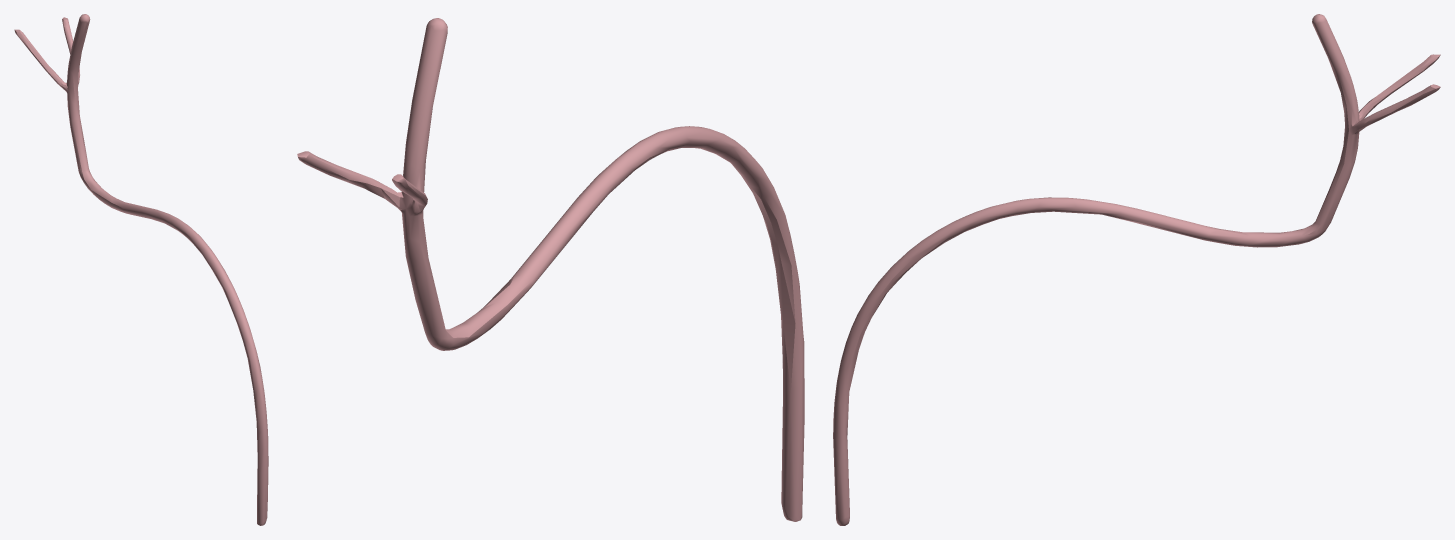
Rendered from fma19667.glb.
3 renders of one model, left to right at view 1: azimuth 30°, elevation 25°; view 2: azimuth 150°, elevation 25°; view 3: azimuth 270°, elevation 25°, orthographic. The views are drawn at different scales.
Visible parts, largest first — view 1: FMA19667; view 2: FMA19667; view 3: FMA19667.
Boxes of the visible parts, left/top/right/bottom form: FMA19667: left=14, top=14, right=268, bottom=525; FMA19667: left=297, top=18, right=804, bottom=521; FMA19667: left=833, top=14, right=1440, bottom=525.
Size of the model in its own units: 0.0165 by 0.1136 by 0.1224.
